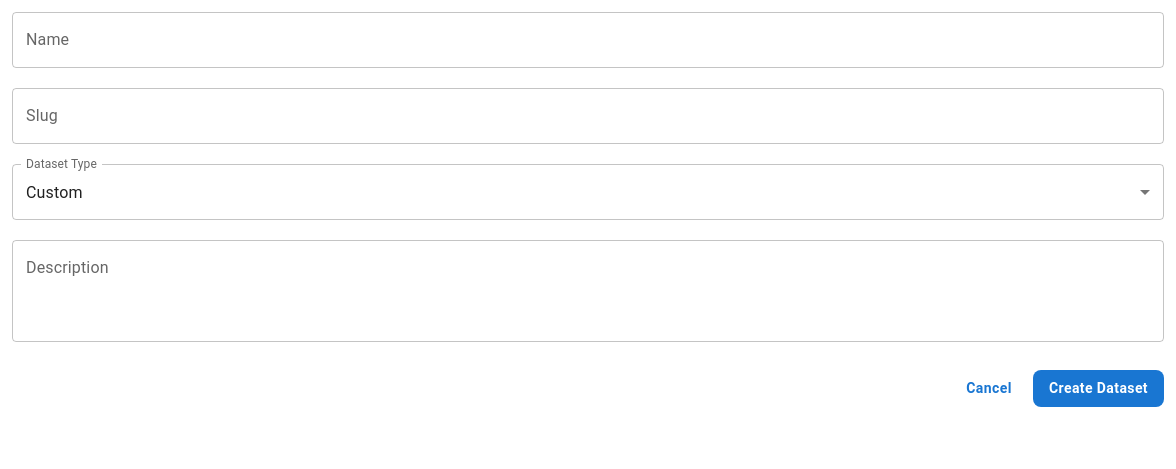
Test: DatasetForm › shows validation errors for required fields
Click the button "Create Dataset": (1098, 388) top-left (1033, 370), bottom-right (1164, 406)
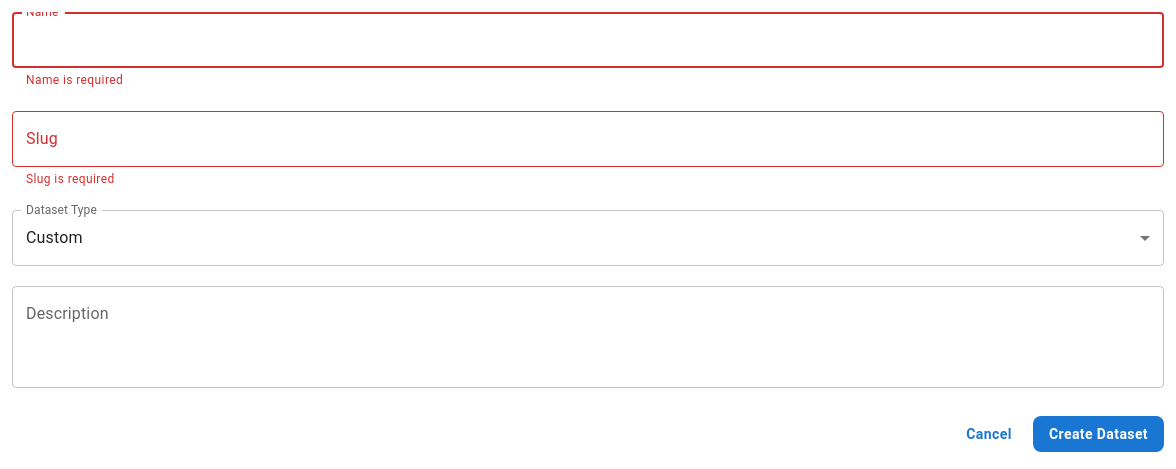
expect the text "Name is required" is shown: met, box top-left (26, 73), bottom-right (123, 87)
expect the text "Slug is required" is shown: met, box top-left (26, 172), bottom-right (115, 186)
